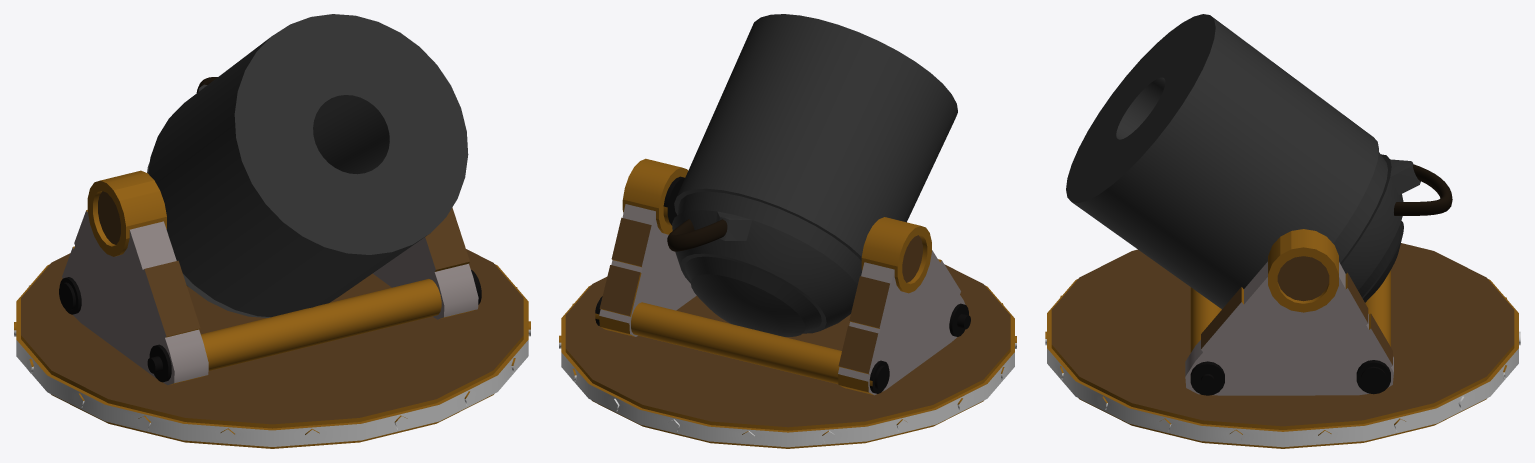
The model's file is Mortar.fbx.
The picture shows the model from 3 angles, left to right: view 1: azimuth 30°, elevation 25°; view 2: azimuth 150°, elevation 25°; view 3: azimuth 270°, elevation 25°; orthographic projection. The views are drawn at different scales.
Visible parts, largest first — view 1: BaseMorero, Mortero; view 2: BaseMorero, Mortero; view 3: BaseMorero, Mortero.
Boxes of the visible parts, x1,y1,x2,y2 form: BaseMorero: (14,170,530,448); Mortero: (147,14,468,317); BaseMorero: (559,158,1016,448); Mortero: (667,14,957,336); BaseMorero: (1045,229,1520,448); Mortero: (1066,14,1452,308).
Bounding box in the file's own units: 74.99 × 55.75 × 74.42.
